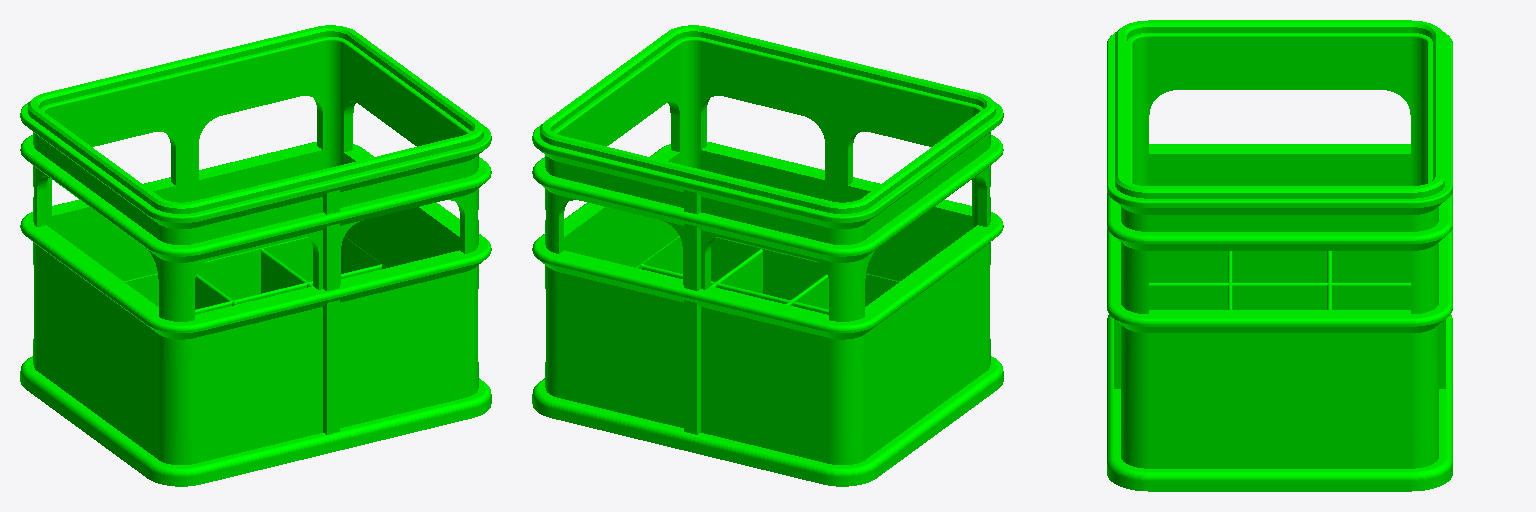
robot.urdf — green_cube:
<?xml version="1.0" ?>
<robot name="green_cube">
  <link name="base_link">
    <inertial>
      <origin rpy="0.0 0.0 0.0" xyz="0.0 0.0 0.0"/>
      <mass value="0.1"/>
      <inertia ixx="4.166666666666668e-05" ixy="0.0" ixz="0.0" iyy="4.166666666666668e-05" iyz="0.0" izz="4.166666666666668e-05"/>
    </inertial>
    <visual>
      <origin rpy="0.0 0.0 0.0" xyz="0.0 0.0 0.025"/>
      <geometry>
        <mesh filename="package://kr210_description/meshes/boxes/box.stl" scale="0.005 0.005 0.005"/>
      </geometry>
      <material name="green">
        <color rgba="0 1 0 1"/>
      </material>
    </visual>
    <collision>
      <origin rpy="0.0 0.0 0.0" xyz="0.0 0.0 0.025"/>
      <geometry>
        <mesh filename="package://kr210_description/meshes/boxes/box.stl" scale="0.005 0.005 0.005"/>
      </geometry>
    </collision>
  </link>
  <gazebo reference="base_link">
    <material>Gazebo/Green</material>
  </gazebo>
</robot>

--- Render facts (derived) ---
The picture shows the robot from 3 angles, left to right: view 1: azimuth 30°, elevation 25°; view 2: azimuth 150°, elevation 25°; view 3: azimuth 270°, elevation 25°; orthographic projection.
Robot: green_cube — 1 links, 0 joints (none); root link base_link; default pose: every joint at zero.
Visible links, largest first — view 1: base_link; view 2: base_link; view 3: base_link.
Link boxes in pixels (<box>): base_link: <box>20,25,491,486</box>; base_link: <box>532,25,1003,486</box>; base_link: <box>1107,20,1452,491</box>.
Size in the robot's own frame: 0.4509 by 0.3709 by 0.3525 metres.
Meshes: 1 distinct files referenced, 1 mesh visuals loaded (1 binary STL).